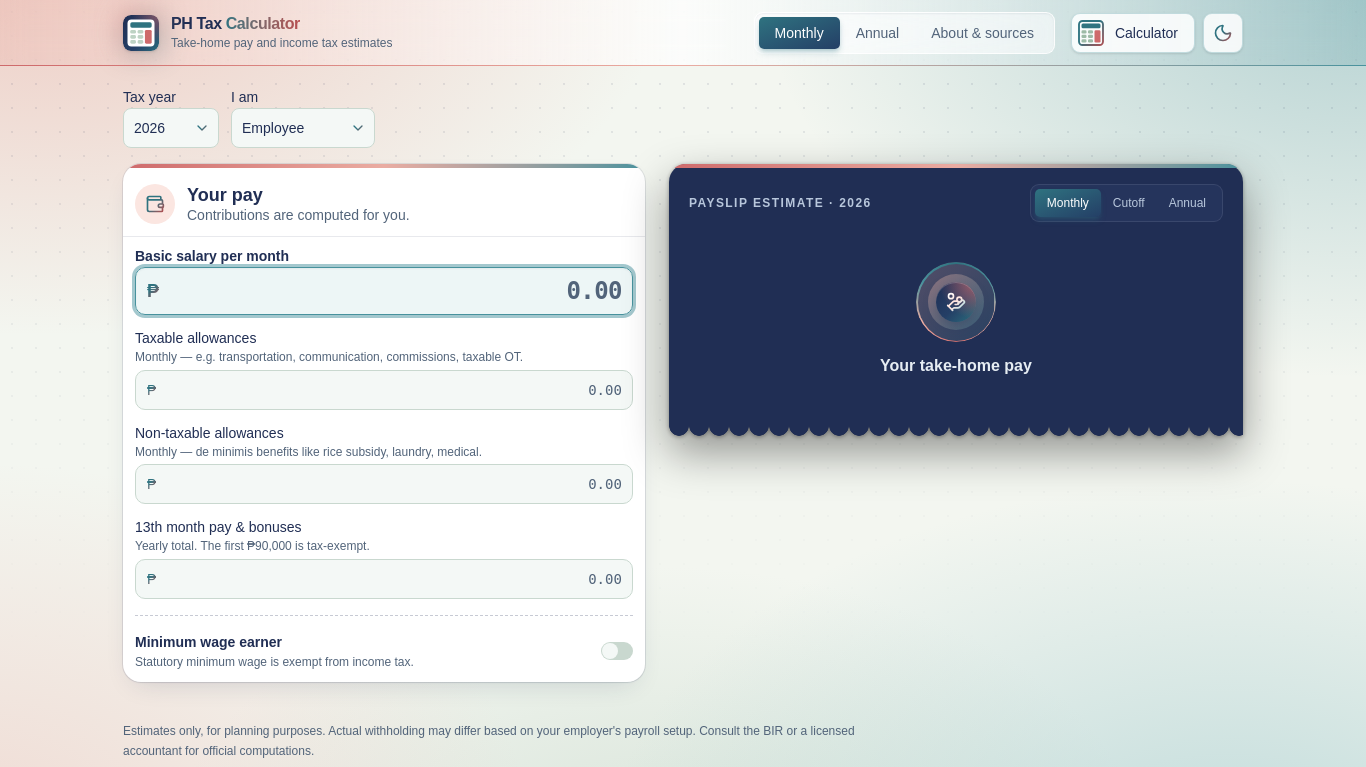
Scenario: the calculator in the app › reports an error in place of the number
Click the button "Calculator" at (1133, 33), box x1=1071 y1=13 x2=1195 y2=53
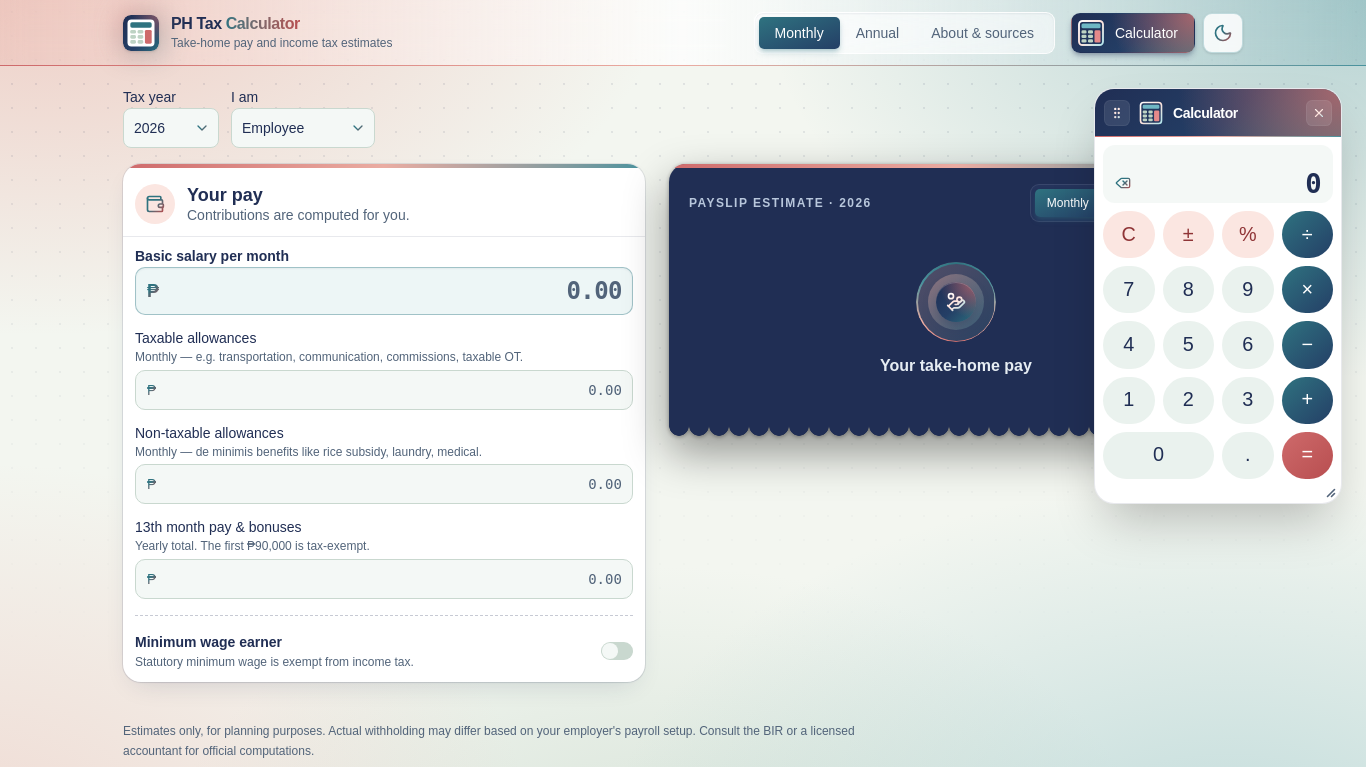
Type keys "5/0="
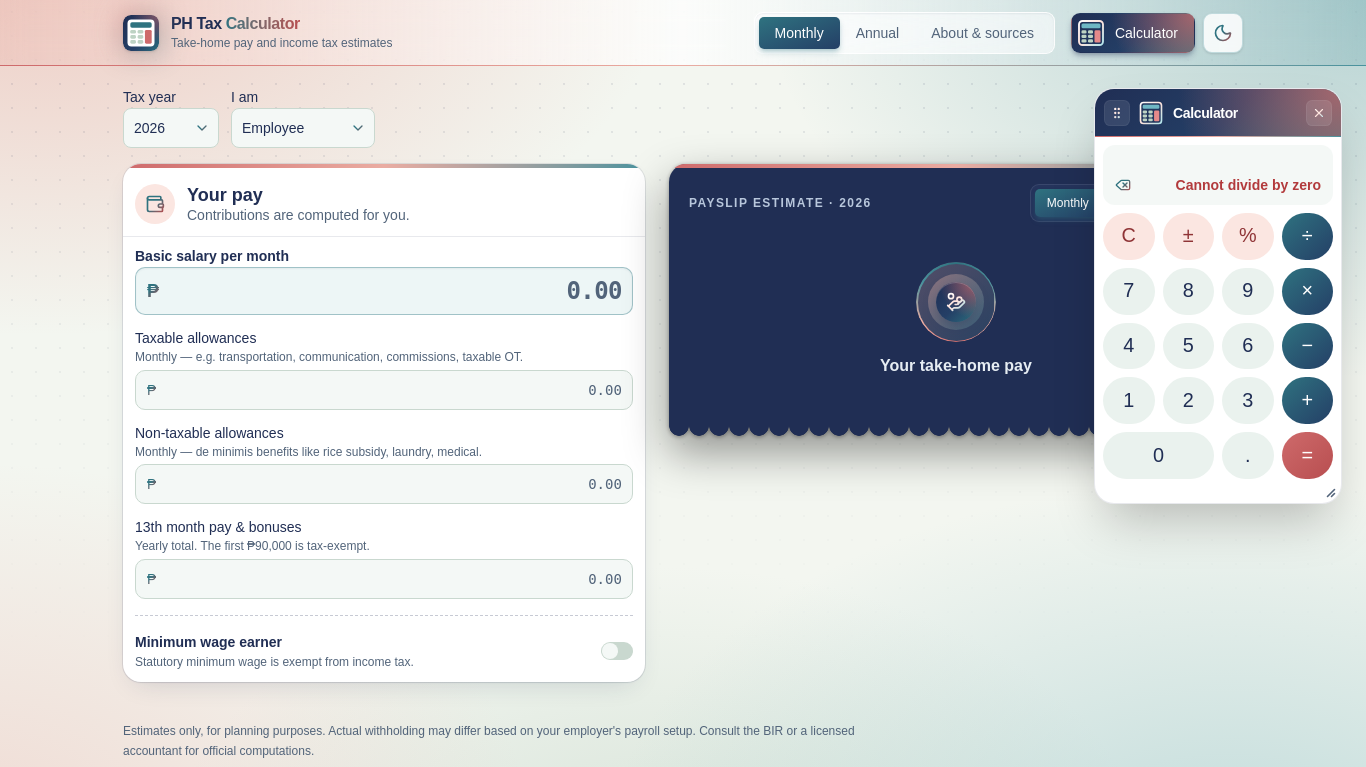
Expected: the text "Cannot divide by zero" is shown, x1=1176 y1=177 x2=1321 y2=193
